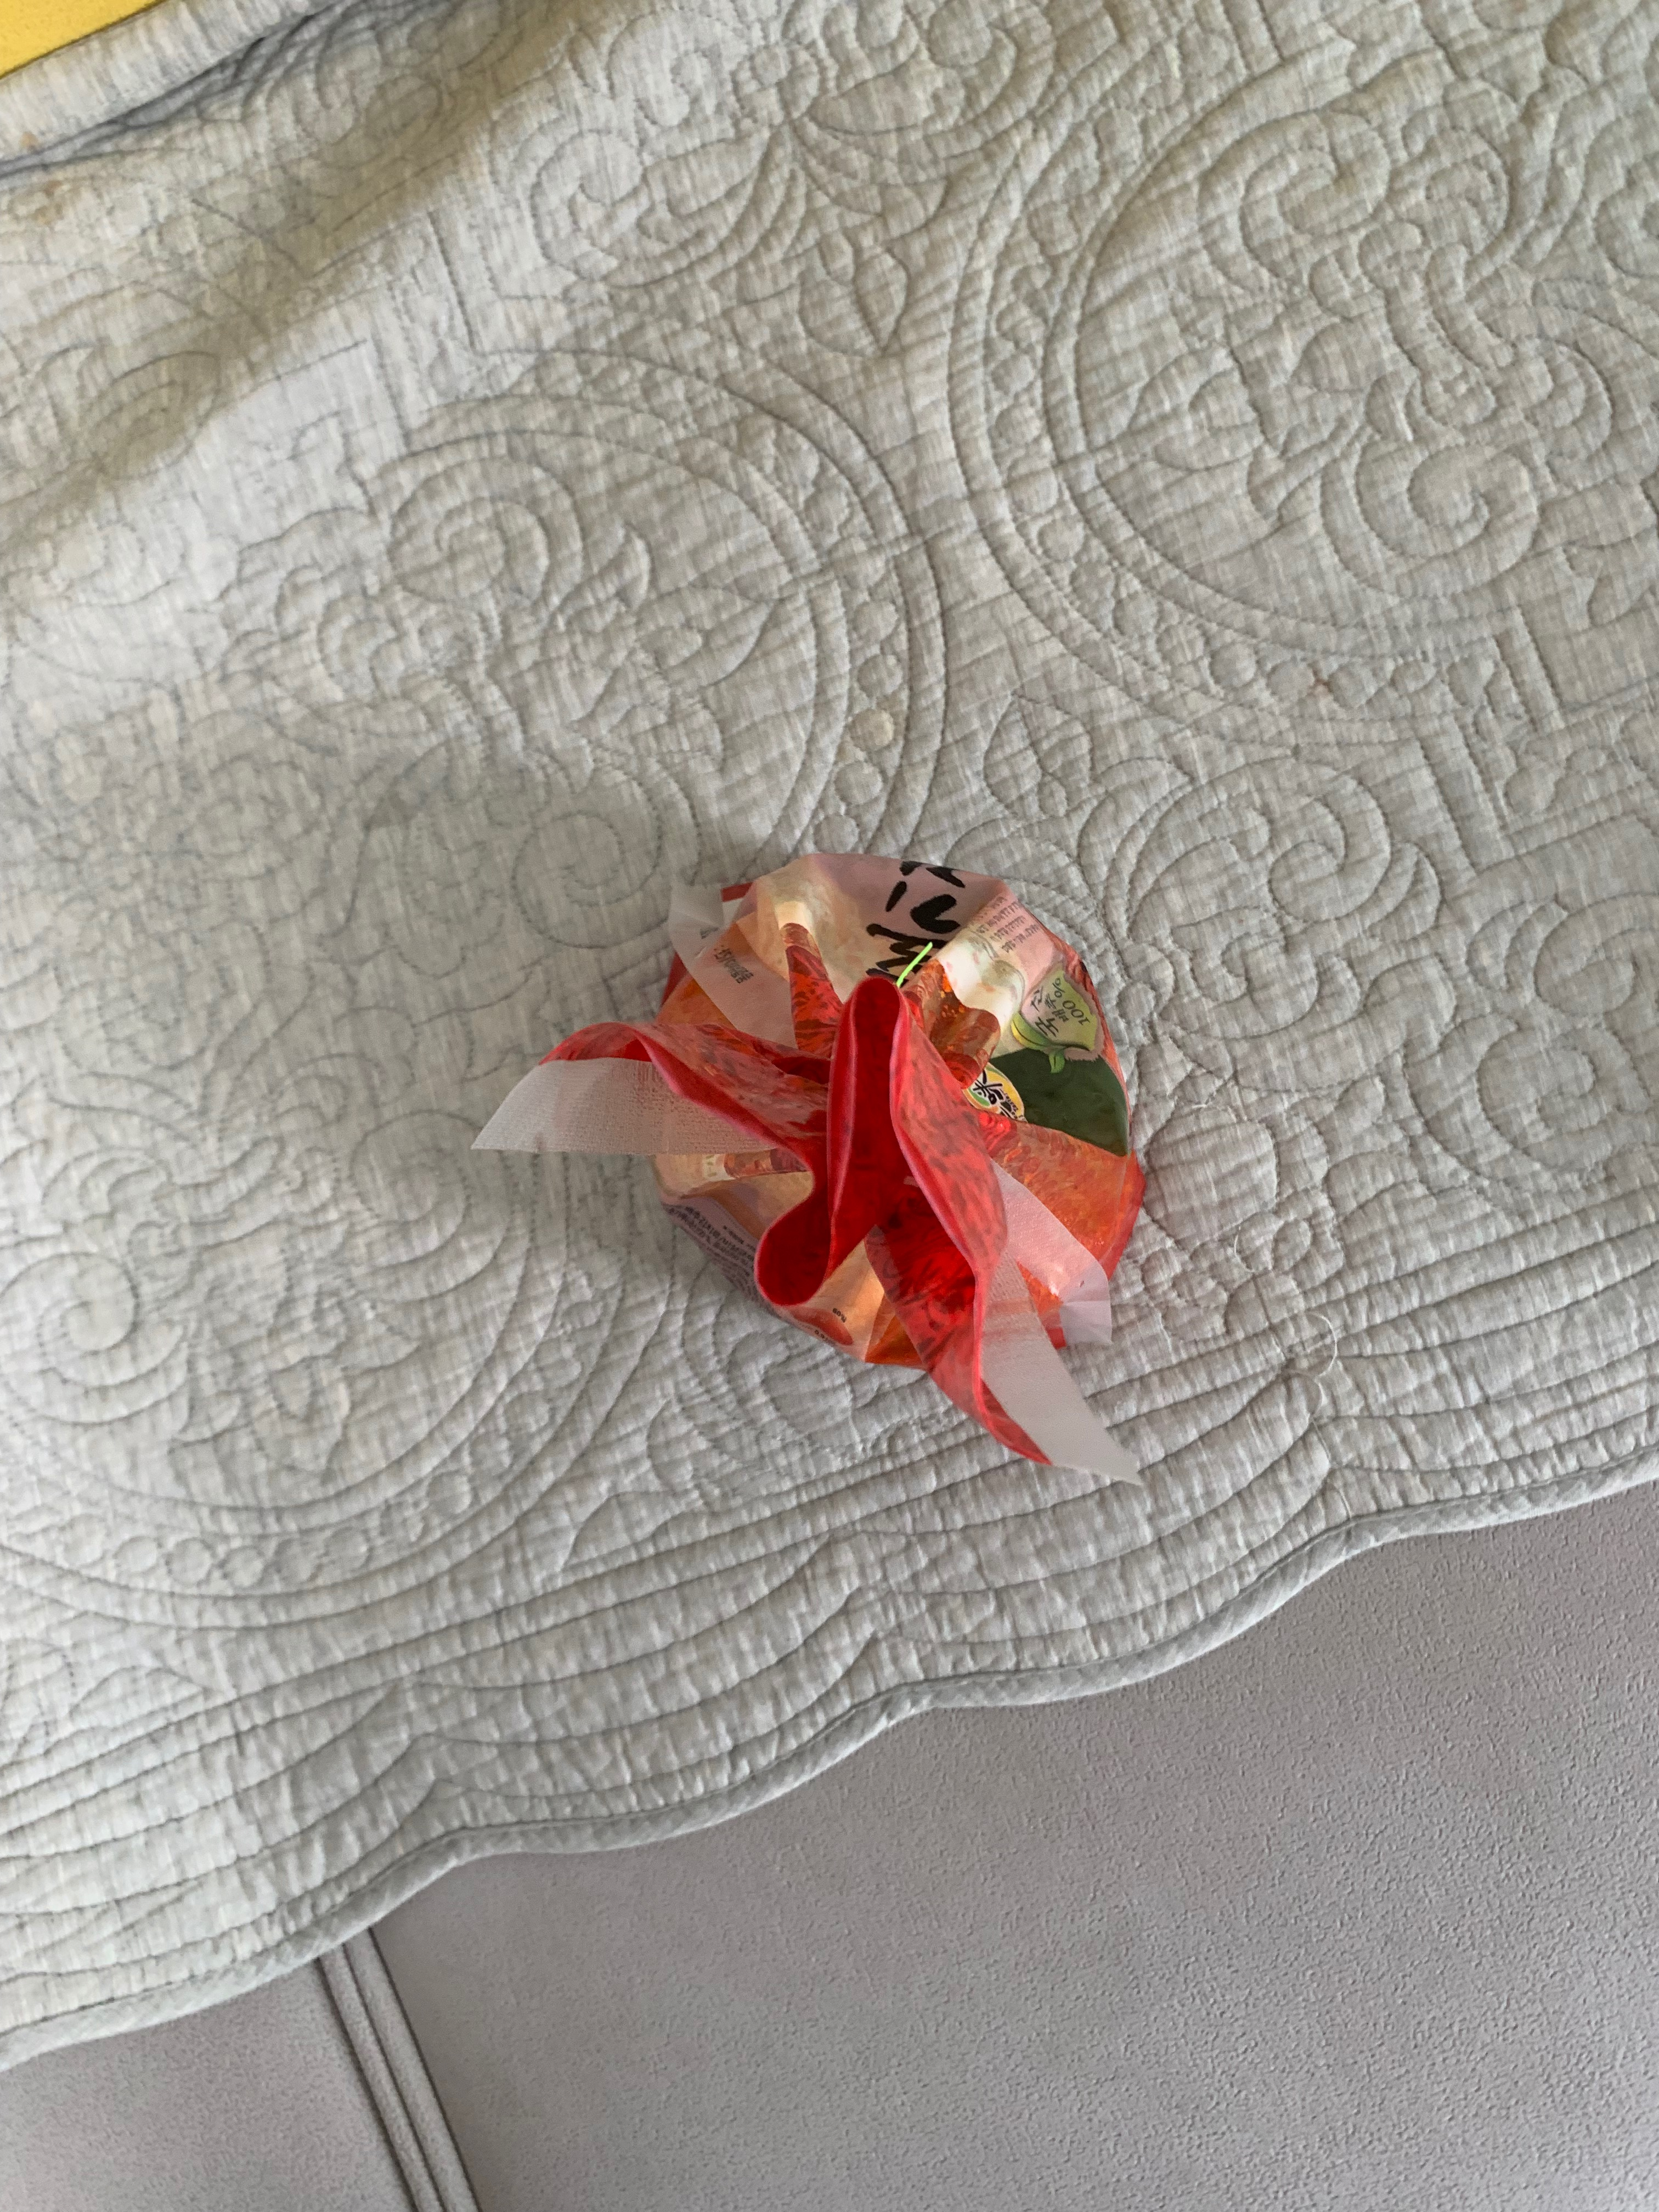kimchi: (647, 853, 1148, 1359)
